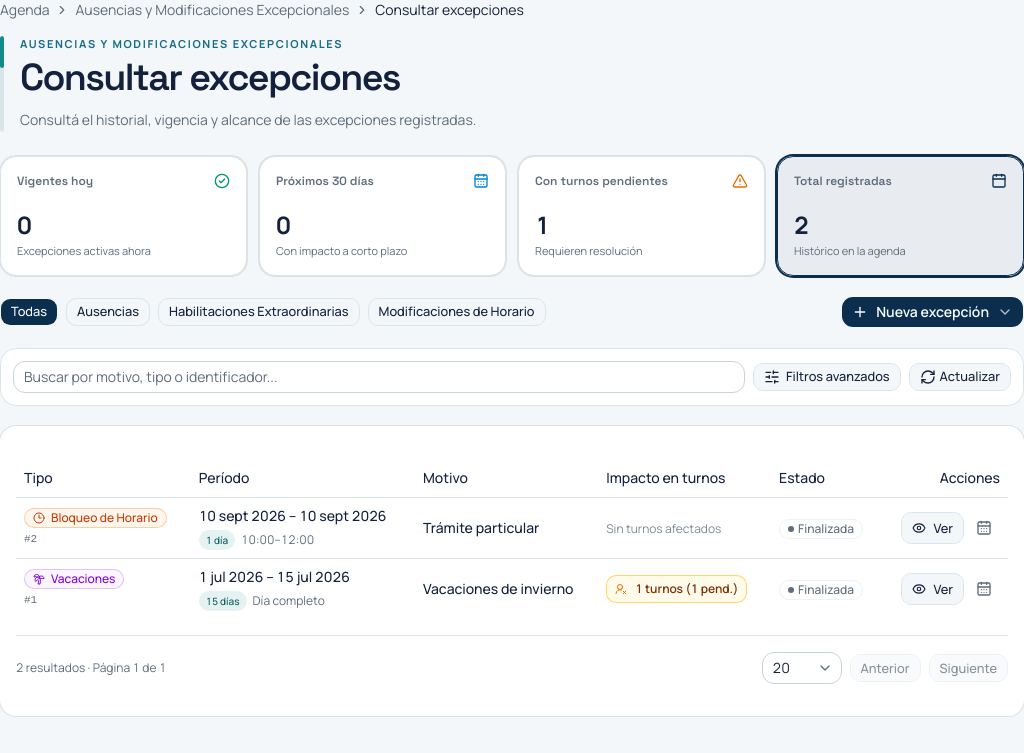
Test: AbsenceManagementPage › renderiza KPIs superiores, dropdown de creación y panel colapsable en ExceptionsPanel
Expected: the text "Vigentes hoy" is shown, [17,173,93,189]
Expected: the text "Próximos 30 días" is shown, [276,173,374,189]
Press the mouse on the button "Nueva excepción" at (933, 312), box [841,296,1023,328]
Press ArrowDown in the button "Nueva excepción", box [841,296,1023,328]
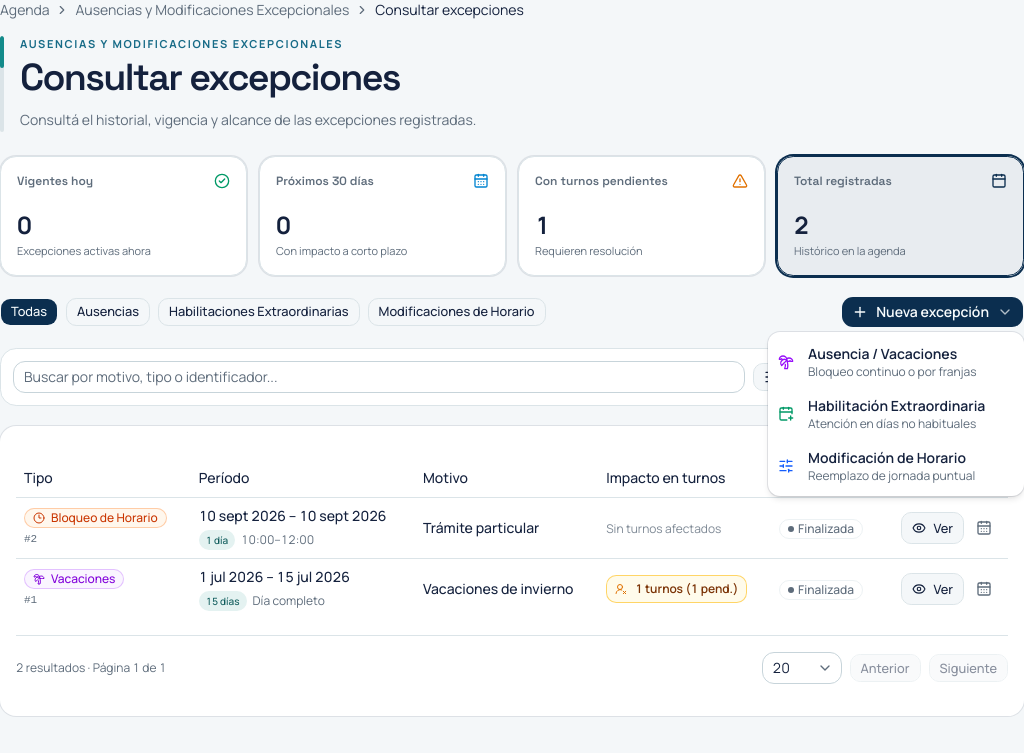
Result: the text "Ausencia / Vacaciones" is shown at [808,344,977,364]
Result: the text "Habilitación Extraordinaria" is shown at [808,396,985,416]
Result: the text "Modificación de Horario" is shown at [808,448,975,468]
# Cierra el dropdown para remover el bloqueo de aria-hidden del resto de la página
Press Escape in the menu, box [768,332,1023,496]
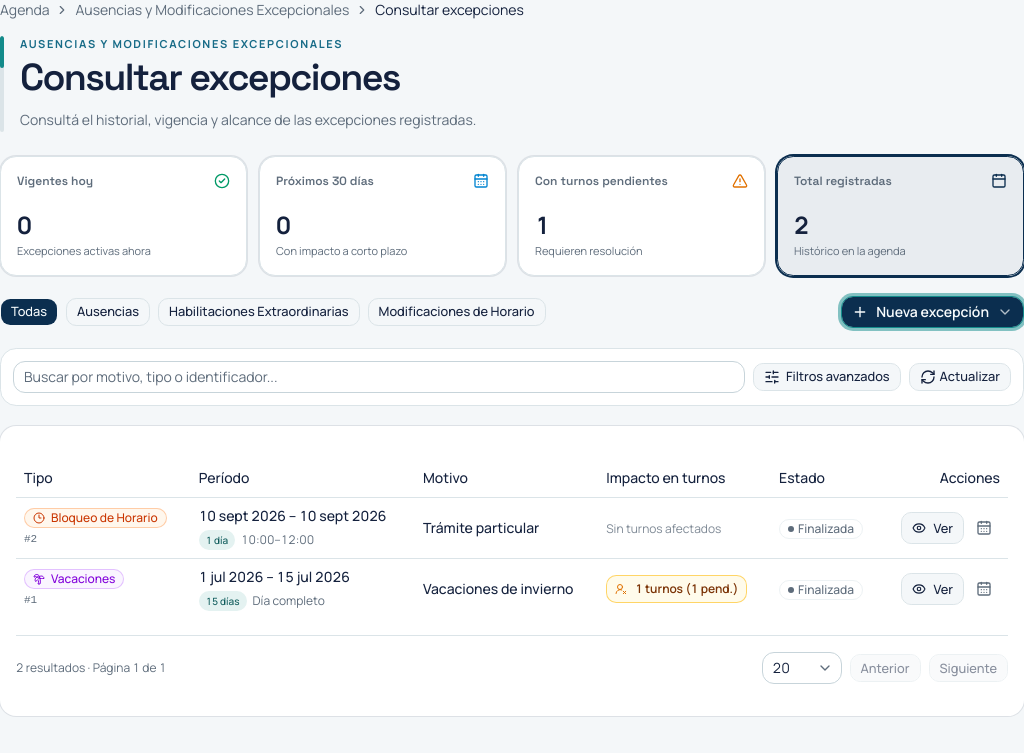
Result: the menu item "Ausencia / Vacaciones" is gone
# 3c: Verifica toggle y despliegue del panel colapsable de filtros avanzados
Click the button "Filtros avanzados".
click(827, 377)  # box [753,363,901,391]
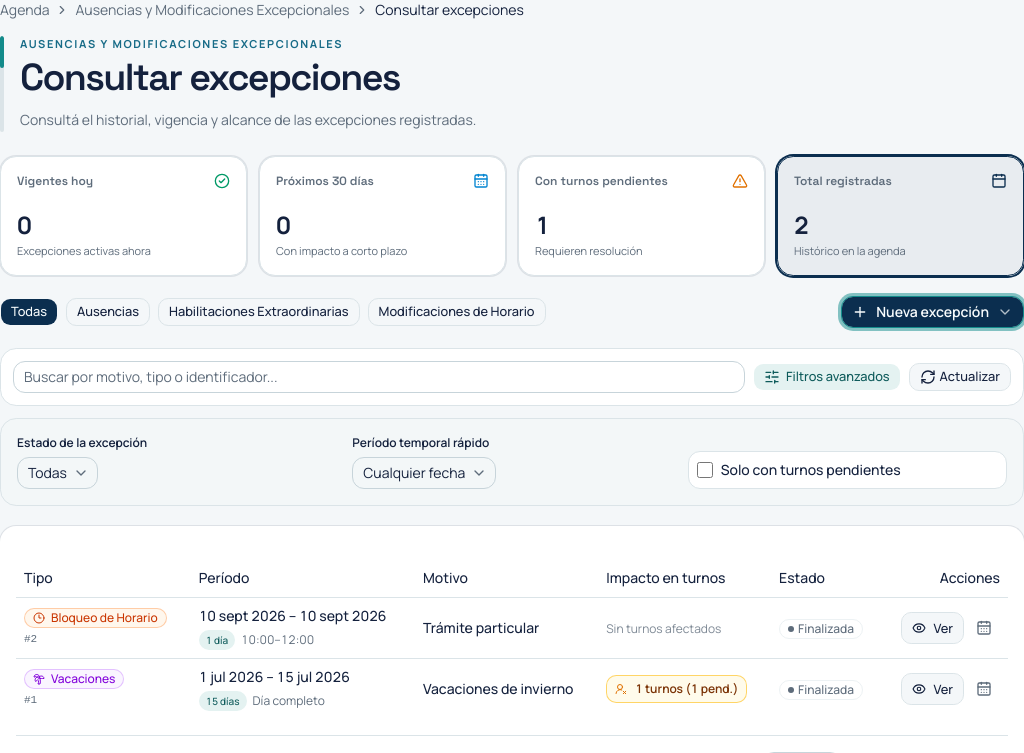
Result: the text "Estado de la excepción" is shown at [17,434,147,451]
Result: the text "Período temporal rápido" is shown at [352,434,489,451]
Result: the text "Solo con turnos pendientes" is shown at [721,460,901,480]
# 6b: Abre el Sheet modular y verifica sus bloques
Click the button "Ver" in the row of "Bloqueo de Horario".
click(932, 628)  # box [900,612,964,644]
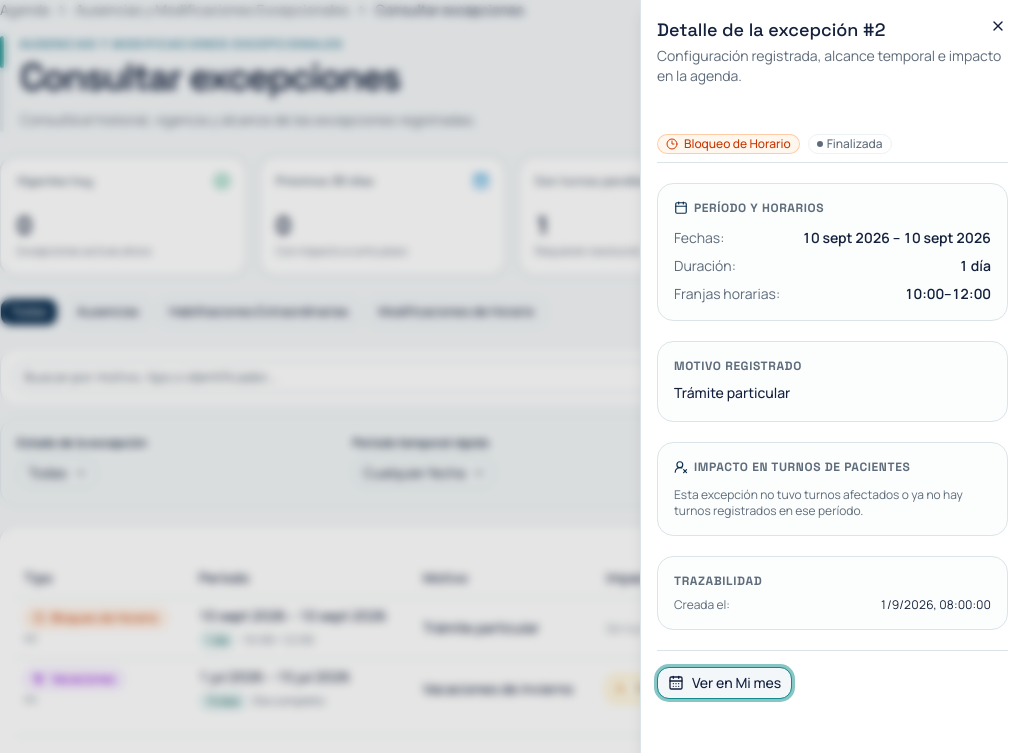
Result: the text "Detalle de la excepción #2" is shown at [657,16,886,44]
Result: the heading "Período y Horarios" is shown at [674,200,824,216]
Result: the heading "Motivo registrado" is shown at [674,358,802,374]
